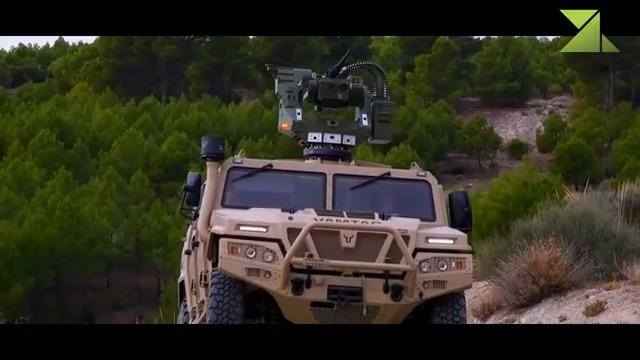MIL_HMMWV: (176, 132, 475, 325)
